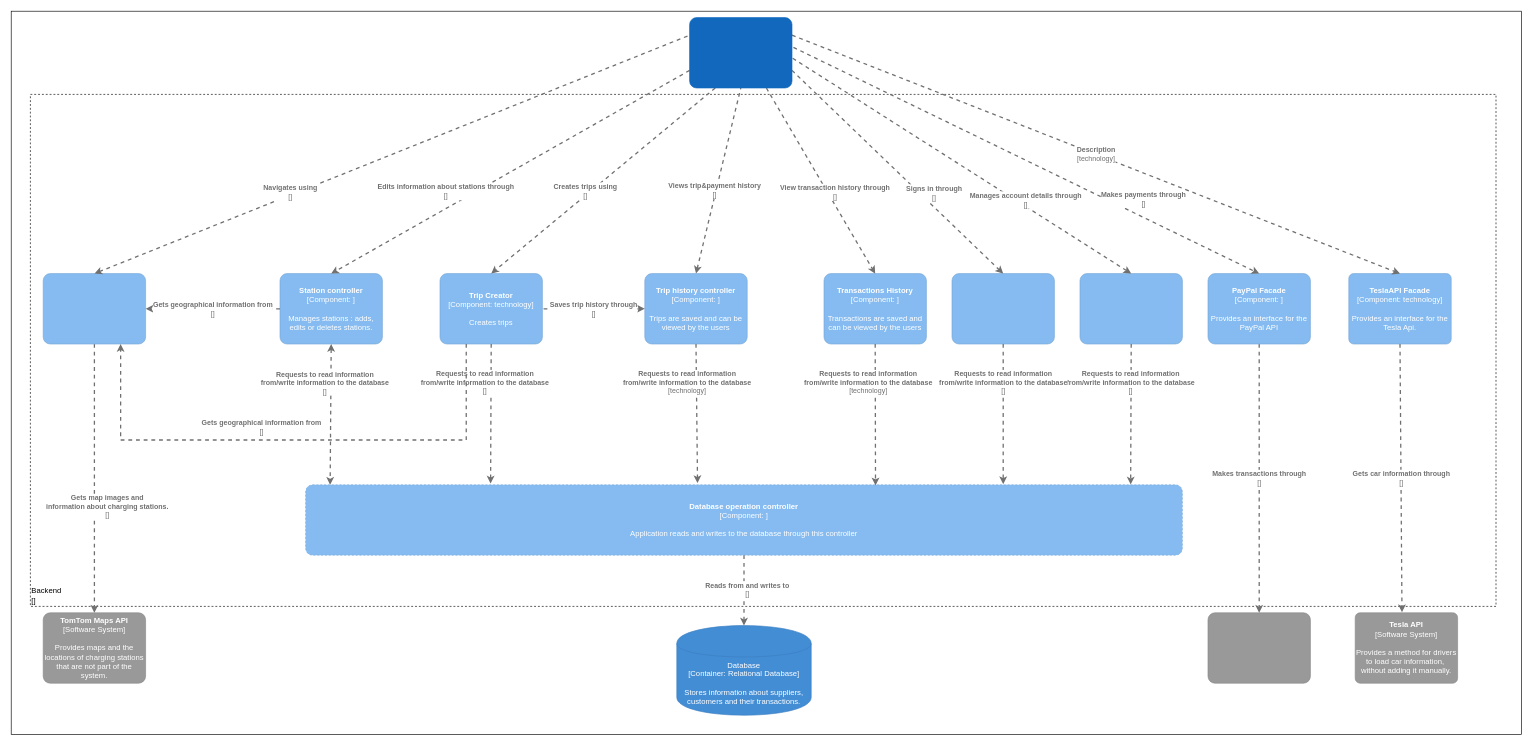
The diagram is 1533 pixels wide and 746 high, and some of its shapes have lost their labels. The shapes that lost their labels are listed below. From the top down, each one's centre as x and y in pixels, then its label:
At [740,52]: "API [Software System] Interface used to send or receive data from the backend.".
At [94,308]: "TomTom Maps Facade [Component: ] Provides an interface for the TomTom Maps API".
At [1002,308]: "Sign In [Component: ] Allows users to sign in".
At [1130,308]: "Account manager [Component: ] Edits information about the account".
At [1258,647]: "PayPal API [Software System] Provides a method for customers to pay.".
